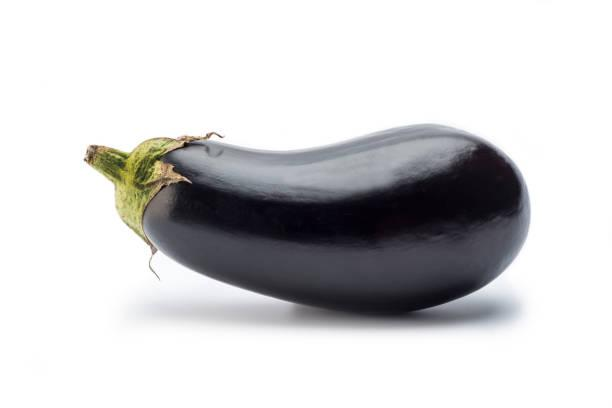Brinjal: (79, 119, 537, 323)
